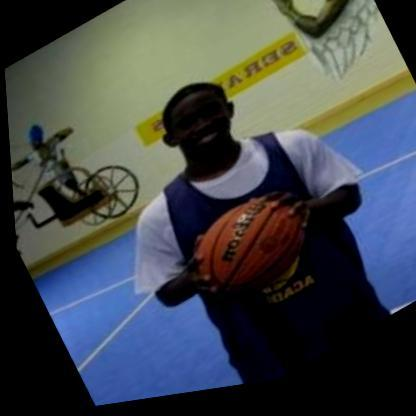basketball: (180, 185, 311, 312)
